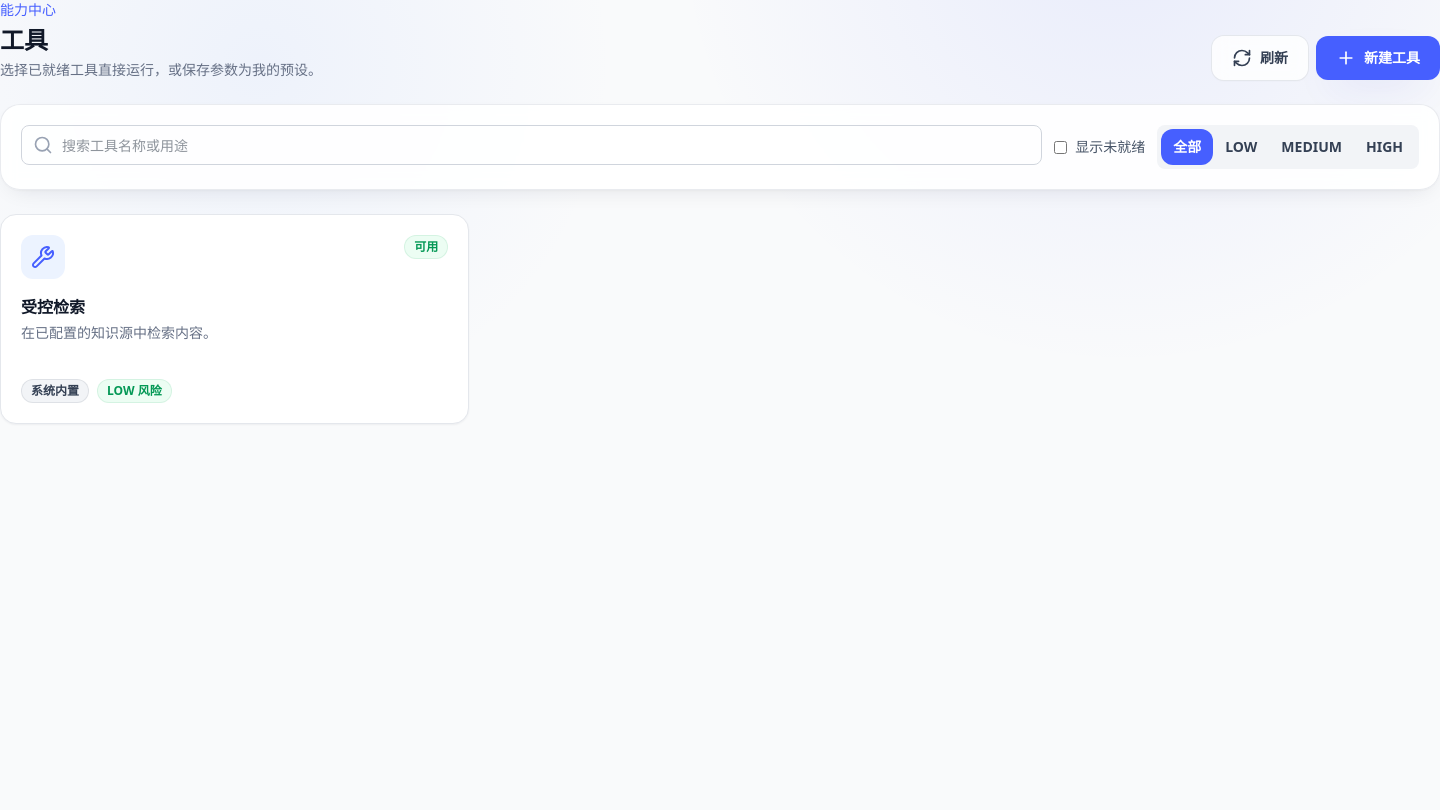
capabilities page › shows ready capabilities by default and explains not-ready resources on demand
Expected: the heading "工具" is shown, [0,23,48,56]
Expected: the field labelled "搜索工具" is shown, [21,125,1042,165]
Click the checkbox labelled "显示未就绪".
click(1061, 147)  # box [1054,140,1067,154]
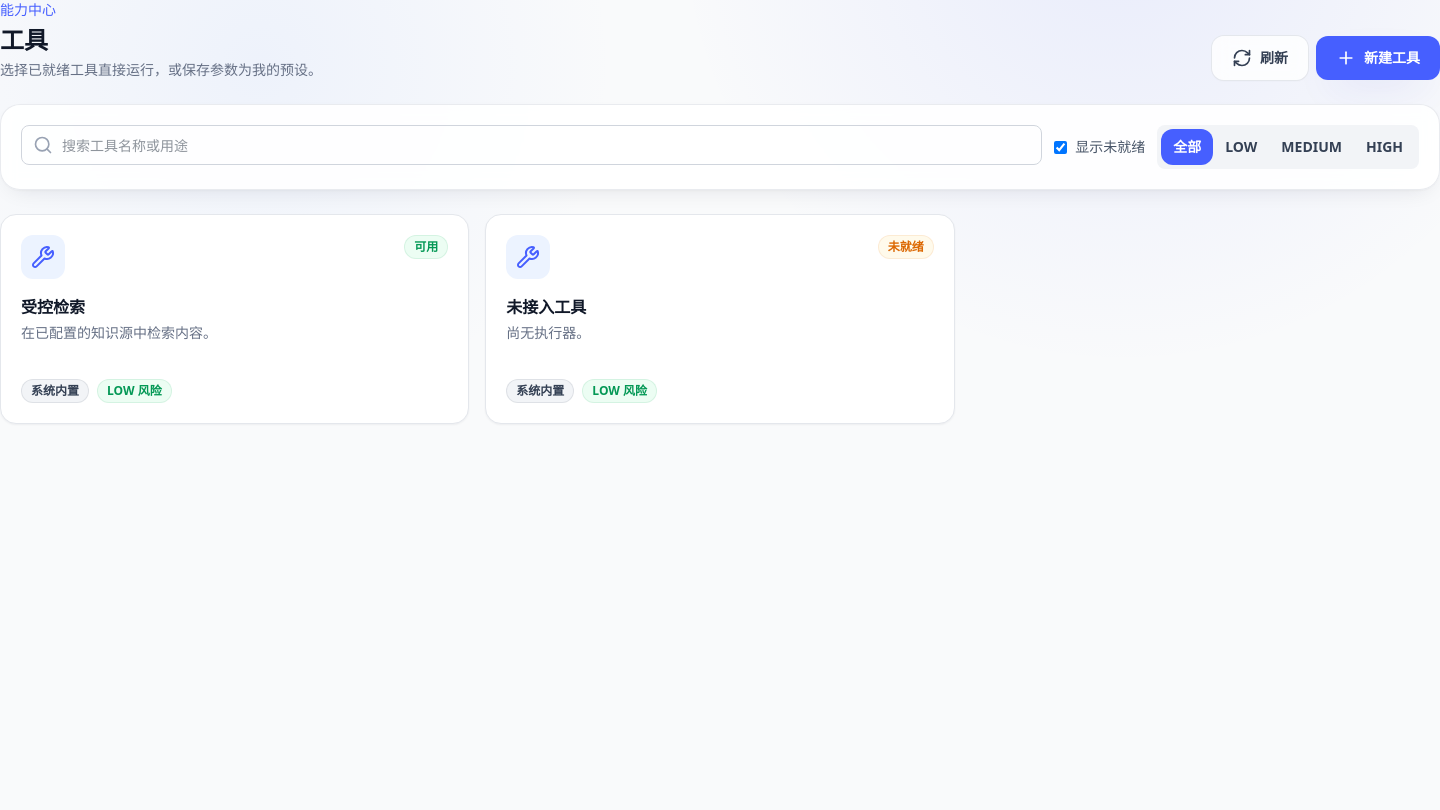
Click the button "未就绪 未接入工具 尚无执行器。 系统内置 LOW 风险".
click(528, 257)  # box [486,215,954,423]
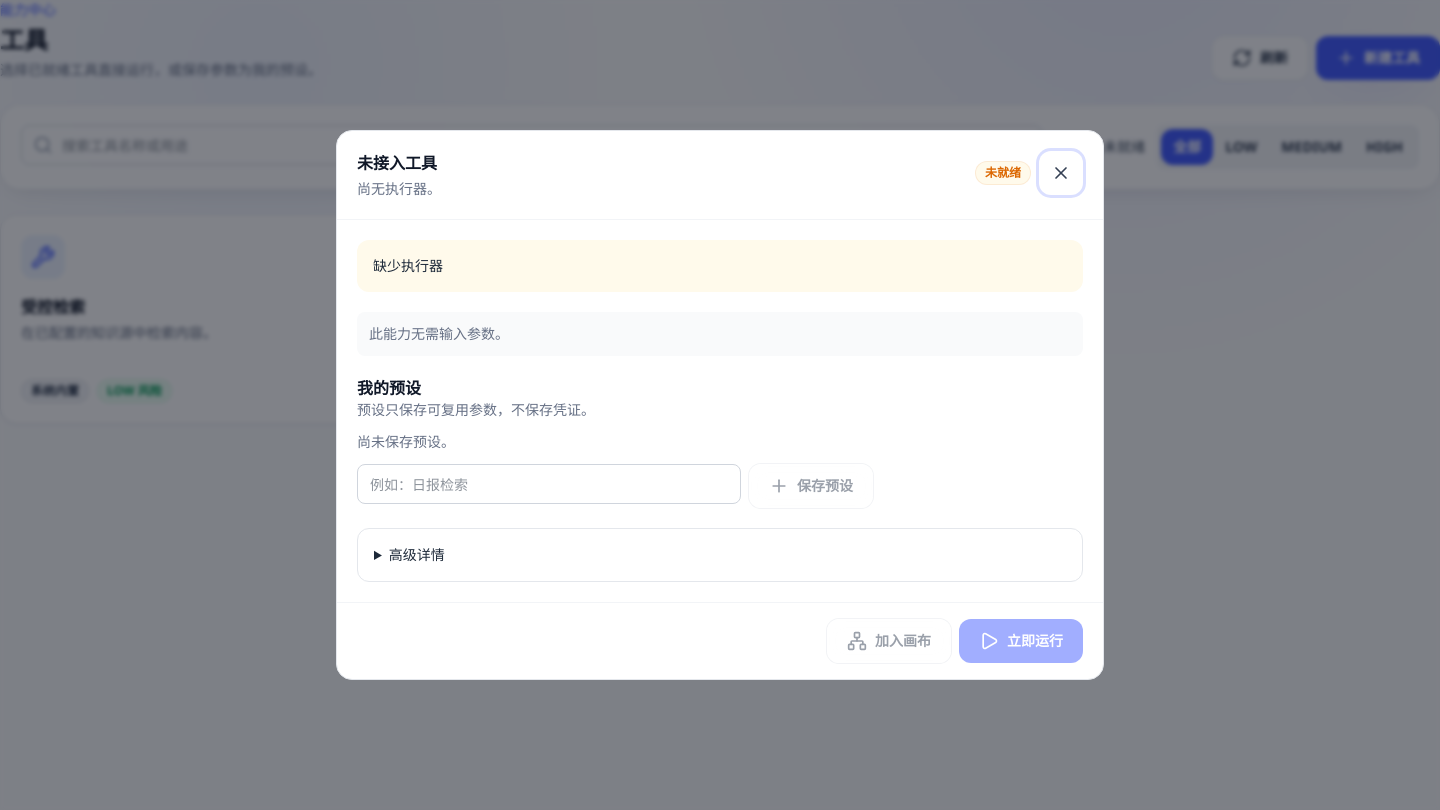
Expected: the dialog "未接入工具" is shown, [336,130,1104,680]
Expected: the list item "缺少执行器" is shown, [373,256,443,275]
Expected: the button "立即运行" is disabled, [959,619,1083,663]
